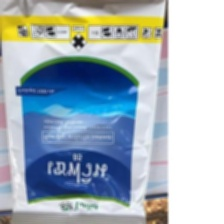insecticide: (0, 0, 168, 224)
